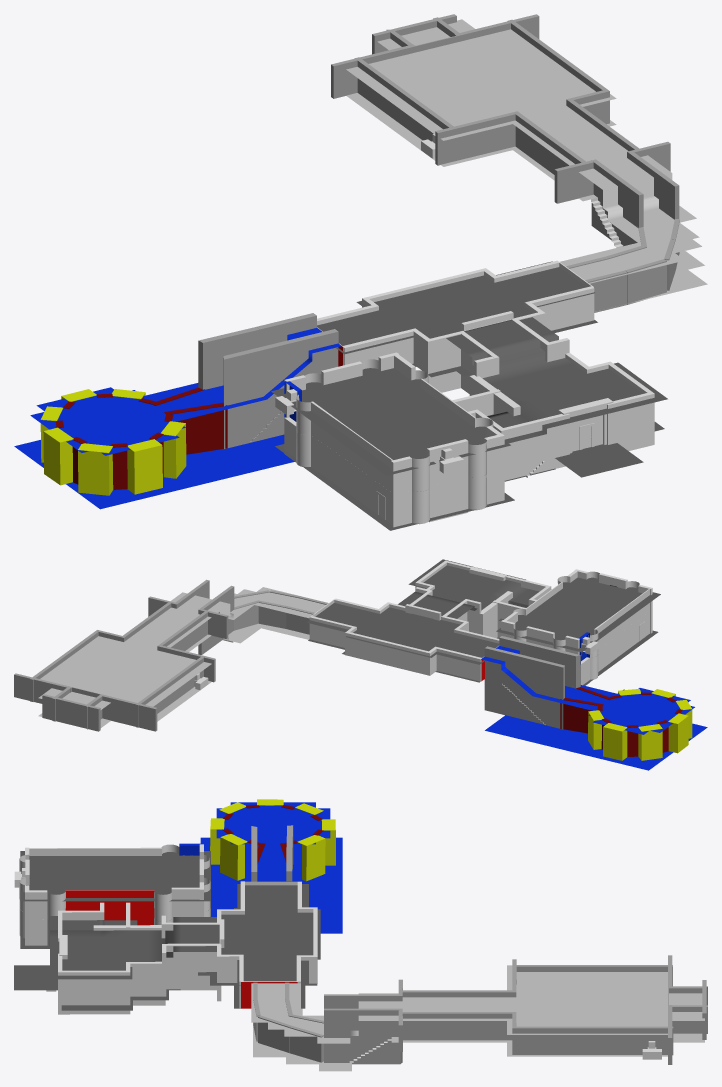
The model's file is MAPA 2.fbx.
3 views of the same model, one above another, from view 1: azimuth 30°, elevation 25°; view 2: azimuth 150°, elevation 25°; view 3: azimuth 270°, elevation 25° (orthographic). The views are drawn at different scales.
Parts seen in each view (by area): view 1: Teto2 (×2), Teto3 (×2), Teto17, Teto9, Teto11, Parede132, polySurface596, Teto12, Teto15, polySurface598, Parede122, Teto4 (+40 smaller); view 2: Teto2 (×2), Teto3 (×2), Teto17, polySurface110, Teto9, polySurface592, Teto18, Teto15, polySurface595, Teto12, polySurface593, polySurface594 (+41 smaller); view 3: Teto2 (×2), Teto3 (×2), Parede123, Teto17, Teto9, polySurface124, Teto12, Parede157, Teto15, pPlane1, Teto18, Teto6 (+40 smaller).
Part boxes in pixels (<box>): Teto2 (×2): <box>30,29,616,455</box>; Teto3 (×2): <box>468,109,667,443</box>; Teto17: <box>314,395,472,454</box>; Teto9: <box>271,368,429,422</box>; Teto11: <box>583,158,696,242</box>; Parede132: <box>498,414,569,480</box>; polySurface596: <box>223,343,281,404</box>; Teto12: <box>560,230,699,283</box>; Teto15: <box>378,287,524,332</box>; polySurface598: <box>223,394,281,448</box>; Parede122: <box>607,392,654,450</box>; Teto4: <box>356,275,502,317</box>; Teto2 (×2): <box>40,636,694,734</box>; Teto3 (×2): <box>128,559,538,647</box>; Teto17: <box>532,589,640,630</box>; polySurface110: <box>348,632,430,675</box>; Teto9: <box>496,611,610,652</box>; polySurface592: <box>524,656,564,698</box>; Teto18: <box>562,577,660,608</box>; Teto15: <box>361,615,460,646</box>; polySurface595: <box>484,679,523,719</box>; Teto12: <box>234,587,325,618</box>; polySurface593: <box>484,646,525,688</box>; polySurface594: <box>524,689,564,729</box>; Teto2 (×2): <box>216,802,671,1034</box>; Teto3 (×2): <box>50,916,506,1020</box>; Parede123: <box>58,970,130,1014</box>; Teto17: <box>68,856,139,901</box>; Teto9: <box>139,851,210,901</box>; polySurface124: <box>162,943,220,990</box>; Teto12: <box>251,983,300,1036</box>; Parede157: <box>65,890,154,917</box>; Teto15: <box>249,909,284,959</box>; pPlane1: <box>211,855,342,897</box>; Teto18: <box>20,851,67,901</box>; Teto6: <box>237,884,308,909</box>.
Bounding box in the file's own units: 69.13 × 10.54 × 69.09.
